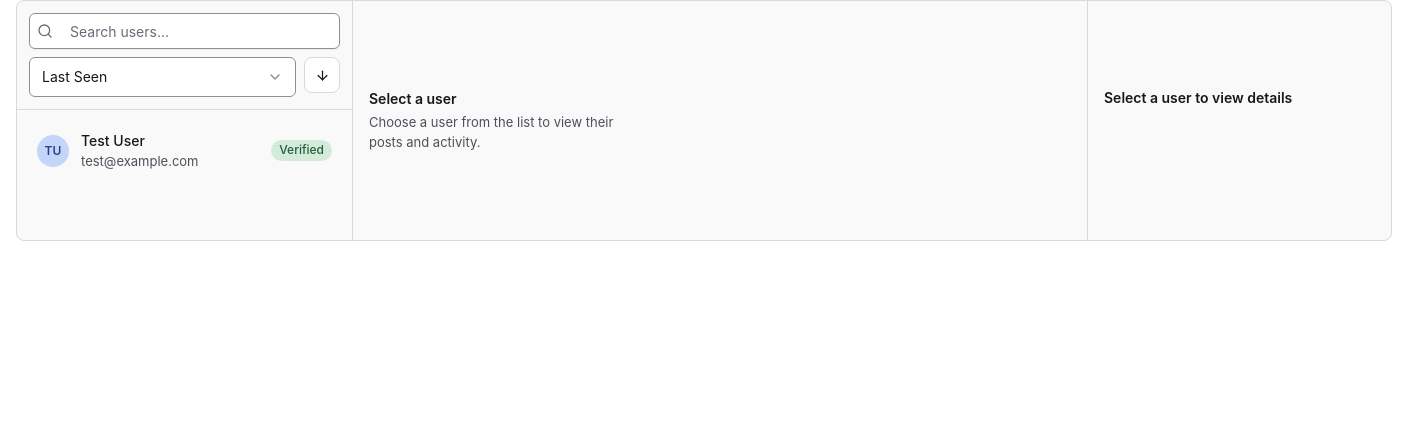
Test case: /admin/users stats panel › shows real numbers including 0 when the detail request succeeds
Click the text "Test User" at x=113, y=140, box x1=81 y1=132 x2=145 y2=149
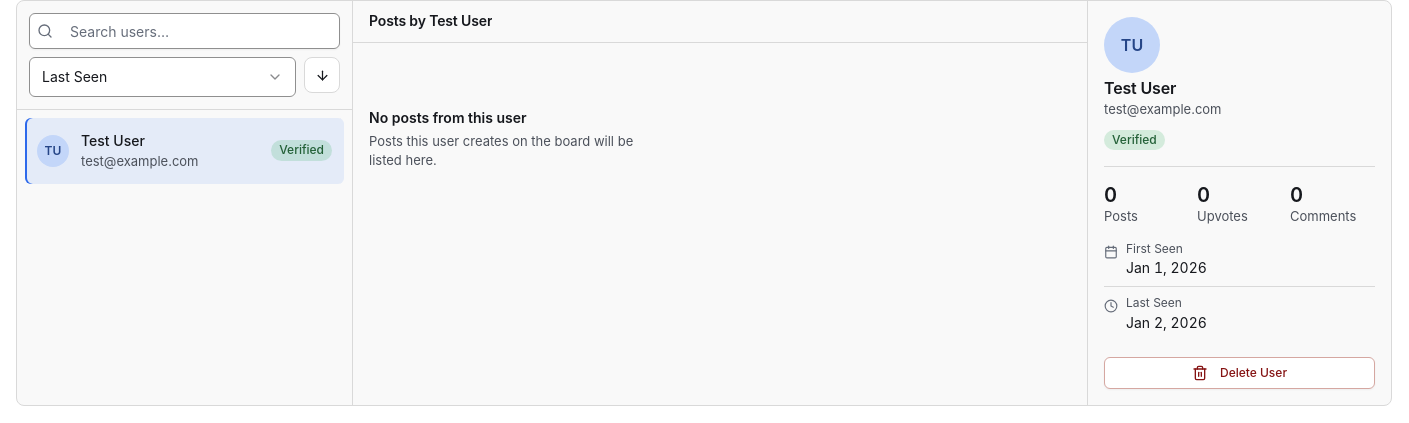
Expected: the heading "Posts by Test User" is shown, x1=369 y1=13 x2=492 y2=30
